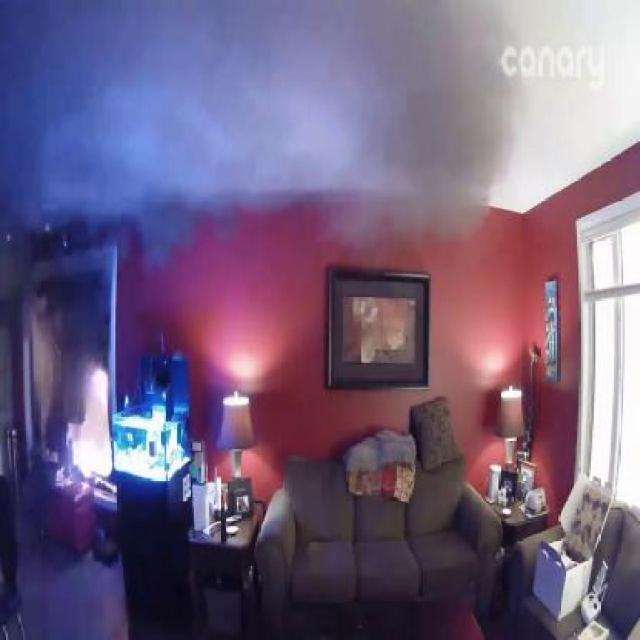fire: (0, 0, 527, 255)
